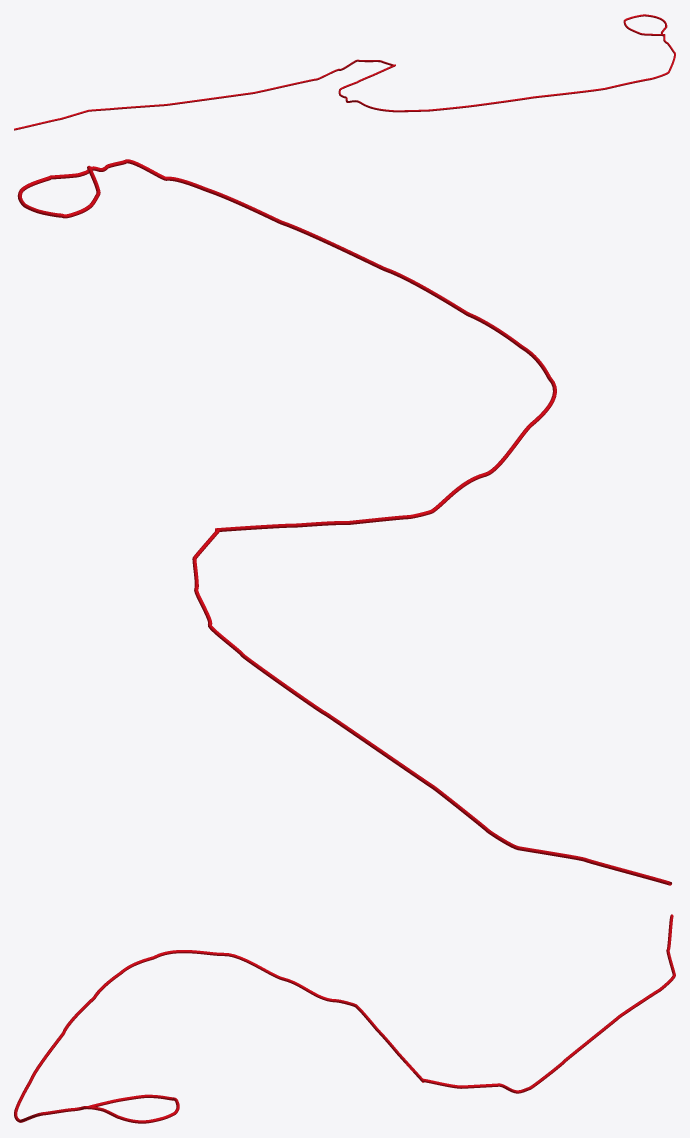
Rendered from footall.dae.
3 views of the same model, one above another, from view 1: azimuth 30°, elevation 25°; view 2: azimuth 150°, elevation 25°; view 3: azimuth 270°, elevation 25° (orthographic). The views are drawn at different scales.
Visible parts, largest first — view 1: BezierCurve_001, BezierCurve_002; view 2: BezierCurve_001, BezierCurve_002; view 3: BezierCurve_001, BezierCurve_002.
Boxes of the visible parts, x1,y1,x2,y2 form: BezierCurve_001: (338, 14, 675, 112); BezierCurve_002: (14, 59, 393, 130); BezierCurve_001: (17, 159, 556, 531); BezierCurve_002: (192, 529, 671, 885); BezierCurve_001: (14, 950, 424, 1123); BezierCurve_002: (422, 914, 675, 1093).
Bounding box in the file's own units: 272 × 197 × 60.4.
